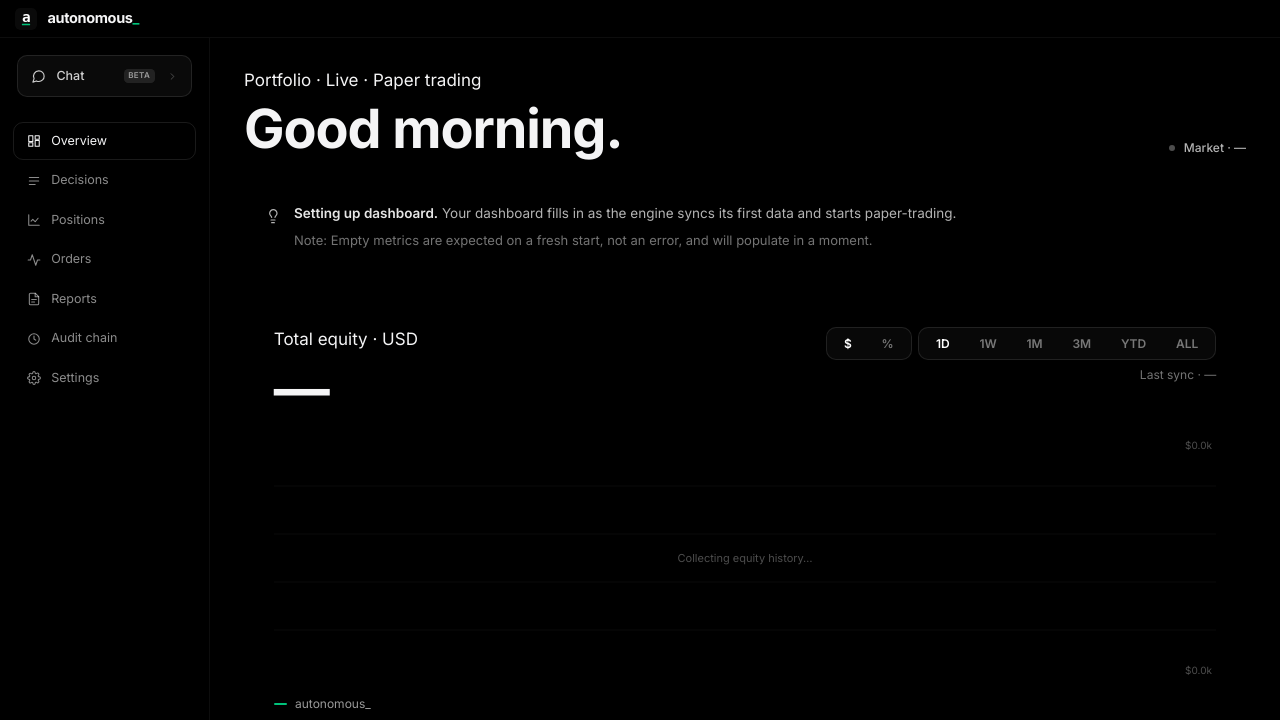
Test: console shell › sidebar nav switches to the live Positions page
Click the button "Positions" at point(105, 220), box [13,201,196,239]
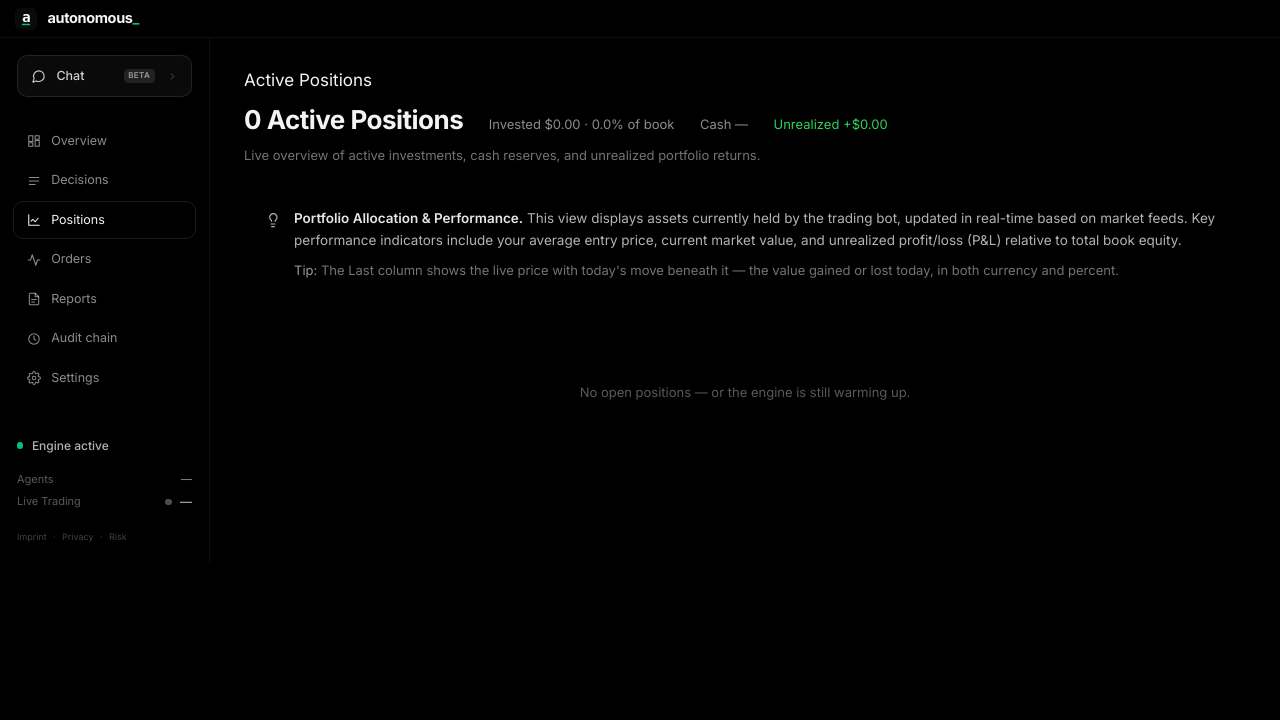
Check: the heading "0 Active Positions" is shown, box [244,102,463,140]
